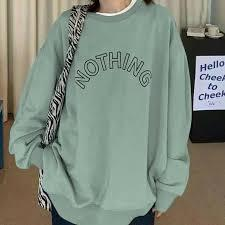sweater: (14, 10, 189, 222)
